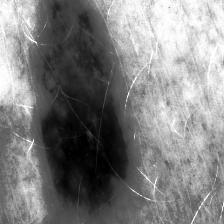Benign Marking or Mole: (33, 2, 130, 212)
